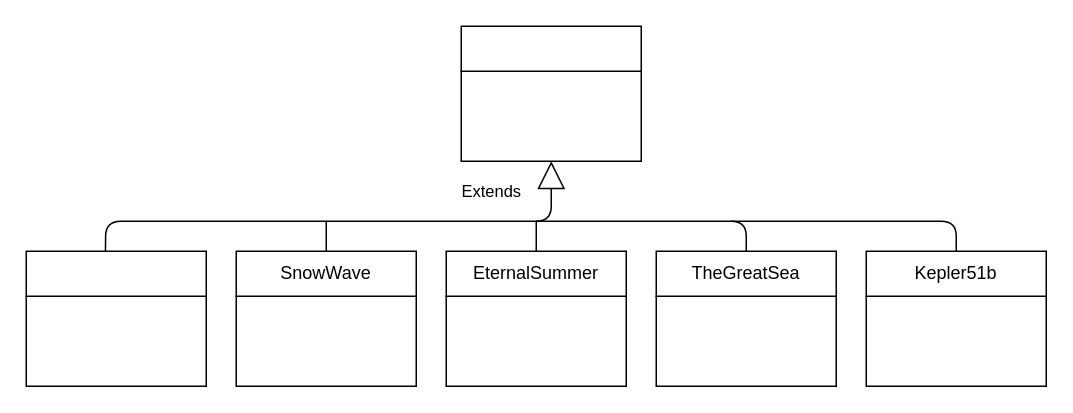
This 1073x413 diagram has some shape labels left out. The centre of each missing label's shape, as x and y in pixels:
"Map" goes at point (550, 48).
"ValleyOfTheHungry" goes at point (115, 273).
